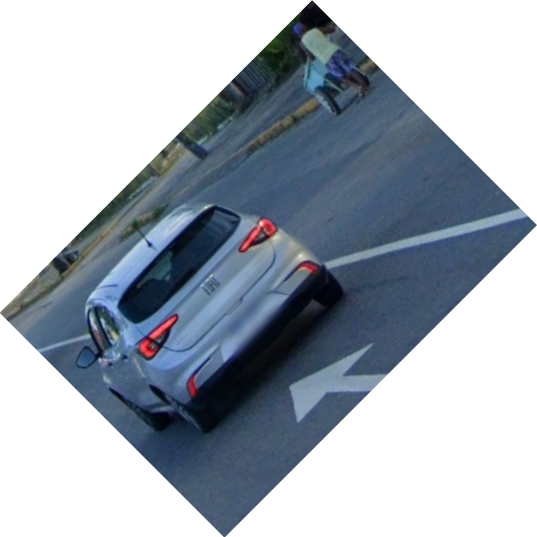car: (70, 195, 348, 442)
